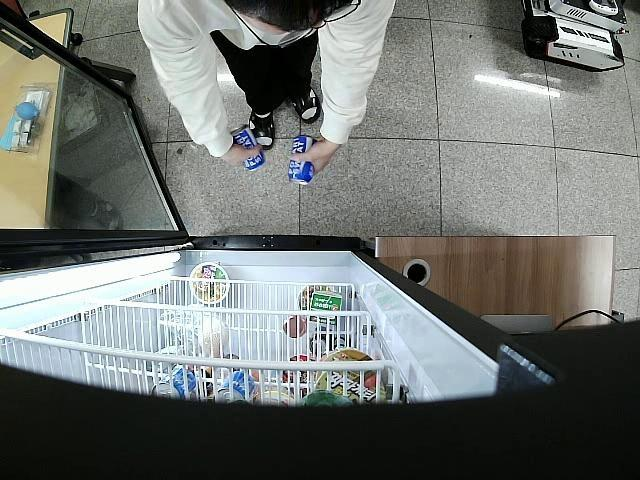13_pocariSweat: (232, 125, 266, 171), (290, 134, 319, 184)
